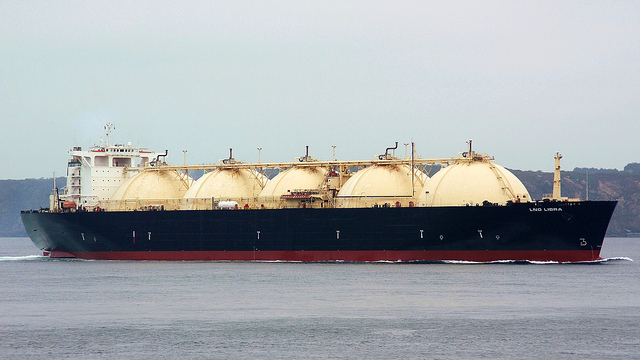LNG_ship: (22, 120, 618, 262)
